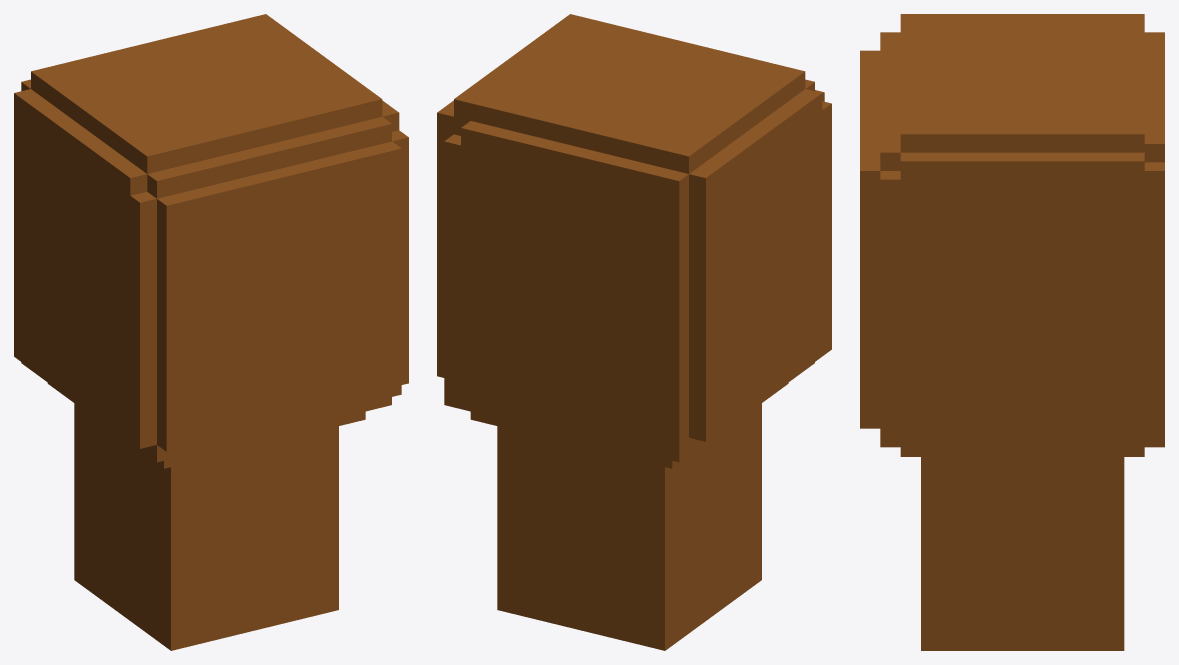
File: medved-8.obj
The picture shows the model from 3 angles, left to right: view 1: azimuth 30°, elevation 25°; view 2: azimuth 150°, elevation 25°; view 3: azimuth 270°, elevation 25°; orthographic projection. The views are drawn at different scales.
Size of the model in its own units: 1.6 by 2.9 by 1.5.
1 material, 1 textured.
